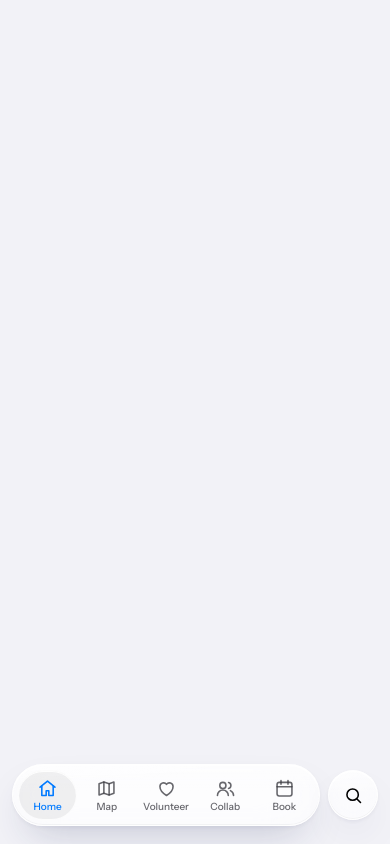
Scenario: TabBar › has the round search button beside the tabs, which opens search
This screenshot has width=390, height=844.
What coordinates should you click on to do the following:
click the button named "Search"
I would click on:
 (353, 795)
Its box is [328,770,378,820].
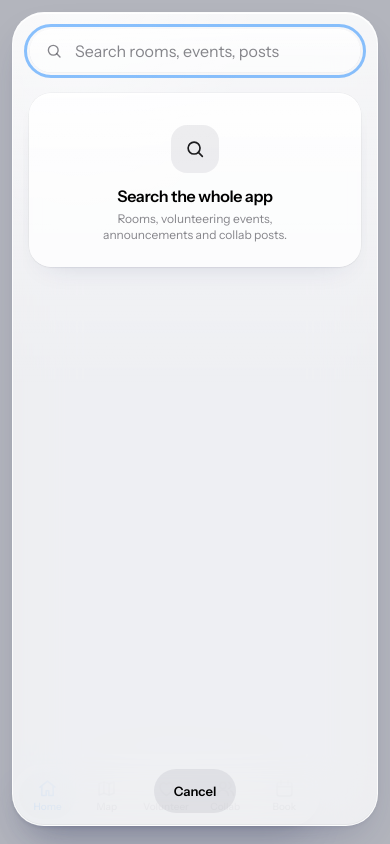
Expected: the dialog "Search" is shown
